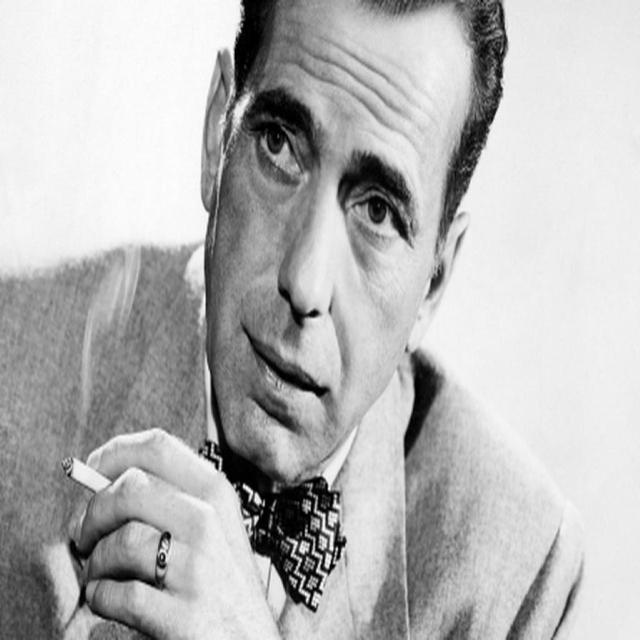smoking: (48, 3, 512, 636)
